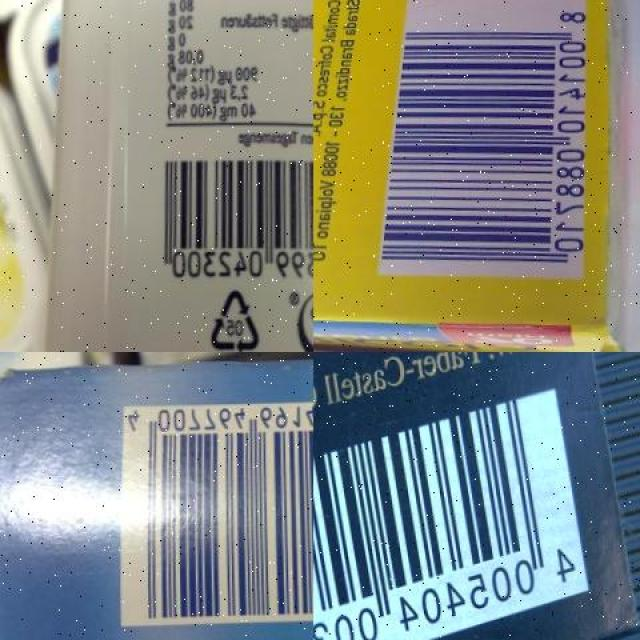Barcode: (313, 384, 587, 640), (368, 0, 589, 280), (115, 400, 313, 627), (142, 152, 314, 293)
